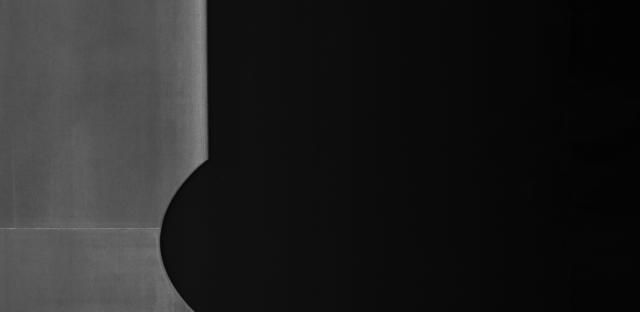crescent_gap: (141, 144, 227, 312)
welding_line: (2, 216, 168, 239)
